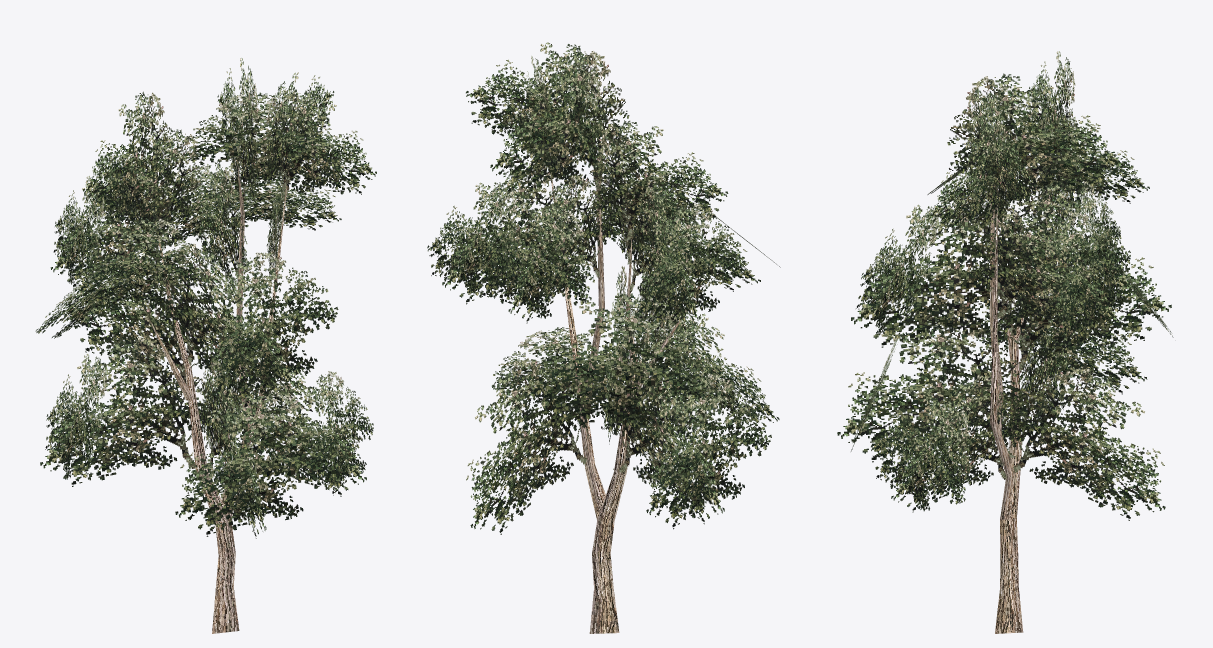
The model's file is stage-lake-p2-288.glb.
3 renders of one model, left to right at view 1: azimuth 30°, elevation 25°; view 2: azimuth 150°, elevation 25°; view 3: azimuth 270°, elevation 25°, orthographic. The views are drawn at different scales.
Size of the model in its own units: 14.26 by 24.71 by 14.23.
3 materials, 3 textured.
